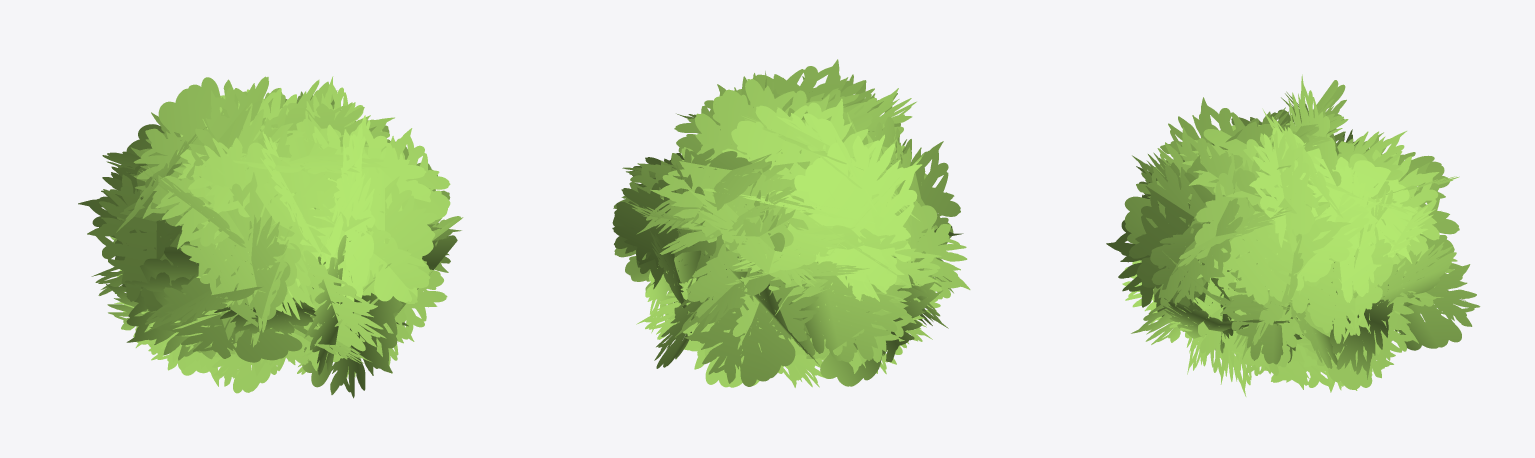
File: Bush.fbx
The picture shows the model from 3 angles, left to right: view 1: azimuth 30°, elevation 25°; view 2: azimuth 150°, elevation 25°; view 3: azimuth 270°, elevation 25°; orthographic projection. The views are drawn at different scales.
Visible parts, largest first — view 1: Cube.003; view 2: Cube.003; view 3: Cube.003.
Part boxes in pixels (left/top/right/bottom): Cube.003: left=78, top=76, right=463, bottom=398; Cube.003: left=612, top=59, right=970, bottom=387; Cube.003: left=1106, top=74, right=1480, bottom=396.
Size of the model in its own units: 2.6 by 2.21 by 2.54.
